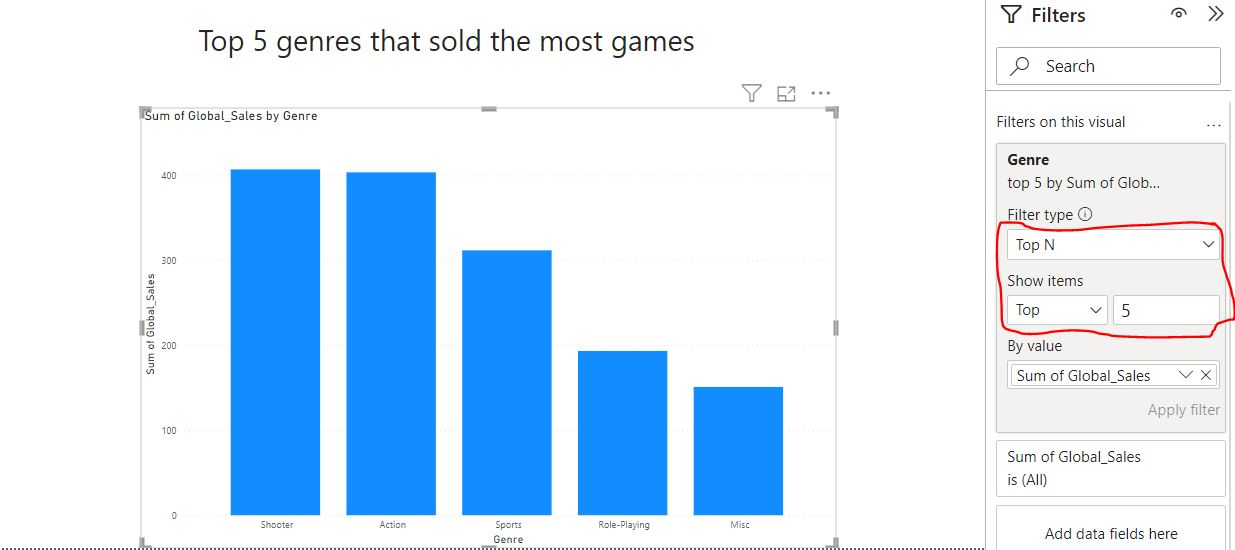

Layout of this report page (visuals, bound fields, positions):
{"tool":"powerbi","page":{"name":"TopN","canvas":[1280,720],"ordinal":2},"visuals":[{"type":"clusteredColumnChart","fields":{"Y":["Sum(Sheet1.Global_Sales)"],"Category":["Sheet1.Genre"]},"box":[190.7,150.9,897.4,569.5],"z":0},{"type":"textbox","box":[259.3,34.3,779.4,67.2],"z":1000}]}

Visuals, with their boxes on the page's 1280x720 design canvas (x1, y1, x2, y2). These are canvas units, not pixel positions in the 1235x550 screenshot, which may show the page scaled, cropped or inside an application window:
clusteredColumnChart - Sum(Sheet1.Global_Sales) x Sheet1.Genre: <box>191,151,1088,720</box>
textbox: <box>259,34,1039,102</box>
